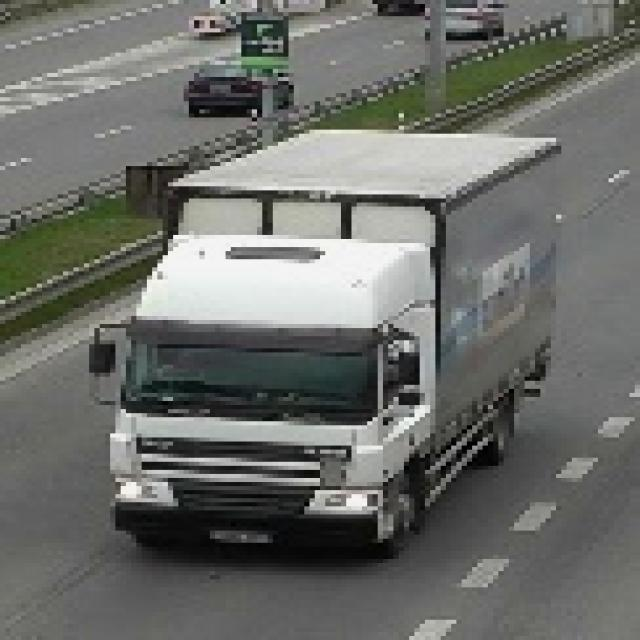truck: (80, 126, 557, 548)
